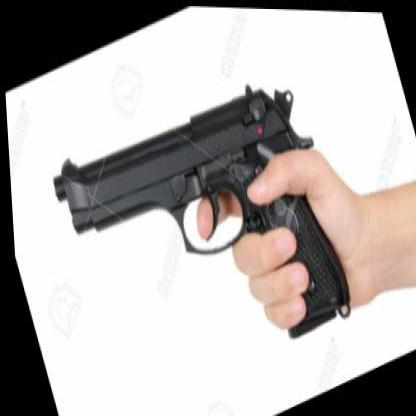pistol: (37, 41, 363, 413)
